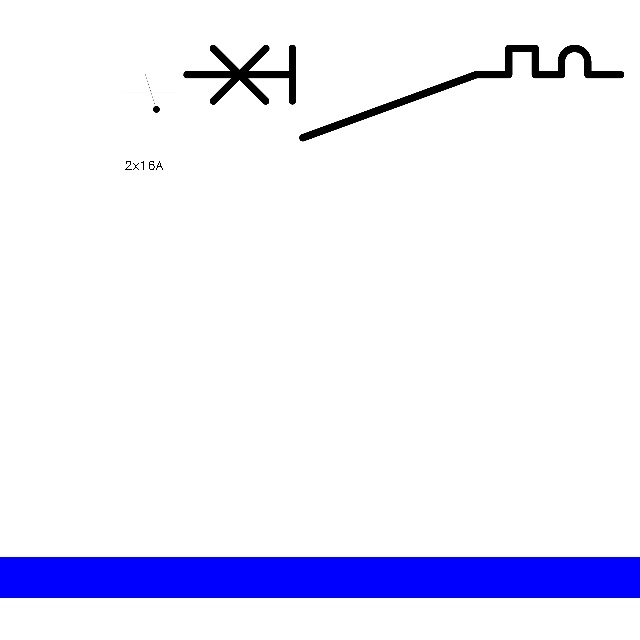interruptor_termomagnetico: (175, 37, 631, 148)
